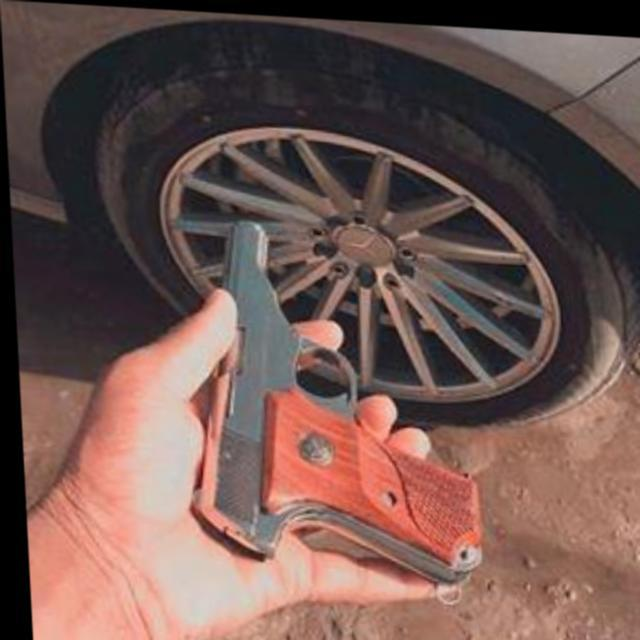weapon: (167, 202, 488, 588)
